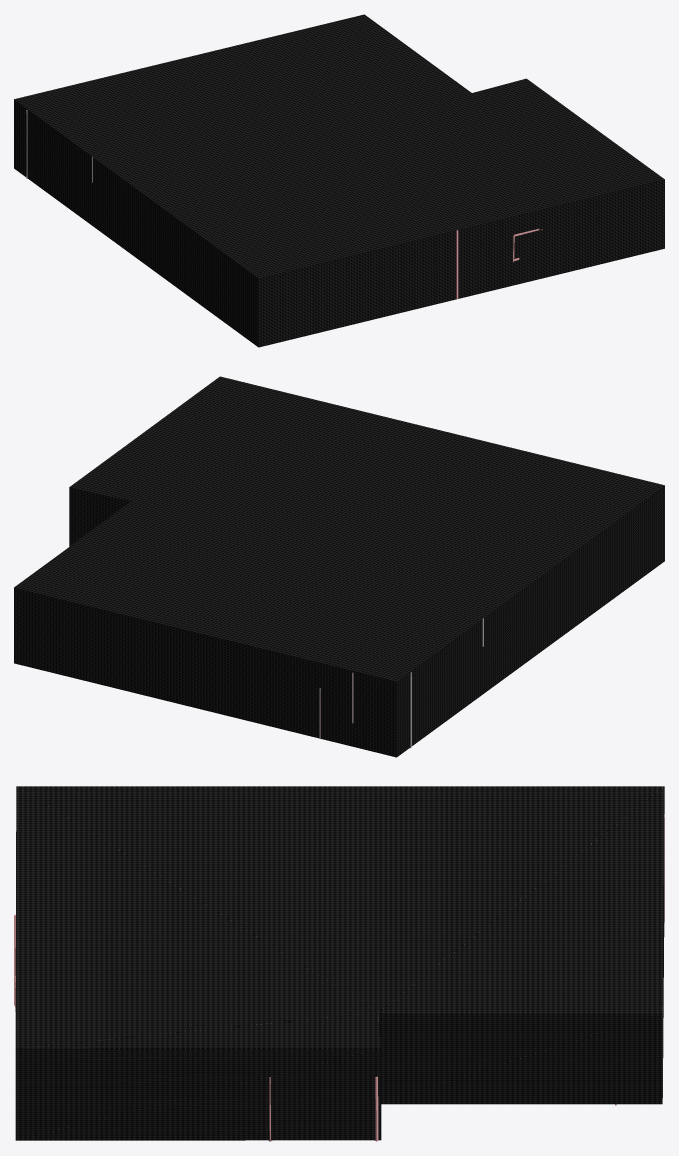
The model's file is teststage29.fbx.
3 renders of one model, top to bottom at view 1: azimuth 30°, elevation 25°; view 2: azimuth 150°, elevation 25°; view 3: azimuth 270°, elevation 25°, orthographic. The views are drawn at different scales.
Parts seen in each view (by area): view 1: New_Game_Object__2_; view 2: New_Game_Object__2_; view 3: New_Game_Object__2_.
Part boxes in pixels (box(x1,y1,x2,y2)): New_Game_Object__2_: box(14, 14, 664, 347); New_Game_Object__2_: box(14, 376, 664, 757); New_Game_Object__2_: box(15, 786, 664, 1140).
Size of the model in its own units: 6265 by 1033 by 6547.
3 materials, 1 textured.
